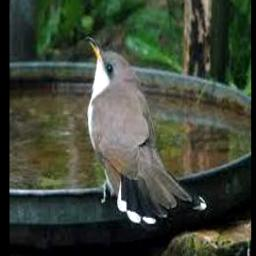Cuckoo: (84, 37, 206, 223)
